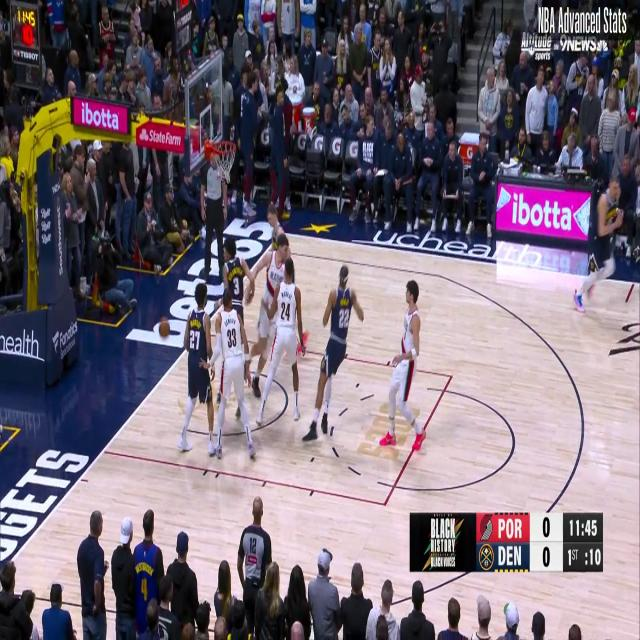ball: (154, 314, 172, 340)
judge: (238, 502, 274, 634), (201, 145, 229, 282)
player: (309, 264, 361, 448), (256, 256, 308, 434), (381, 283, 427, 453), (177, 281, 218, 457), (574, 170, 624, 307), (214, 240, 254, 411), (264, 203, 298, 351)
